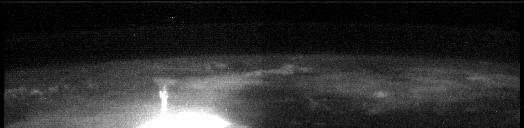positive: (155, 86, 172, 116)
